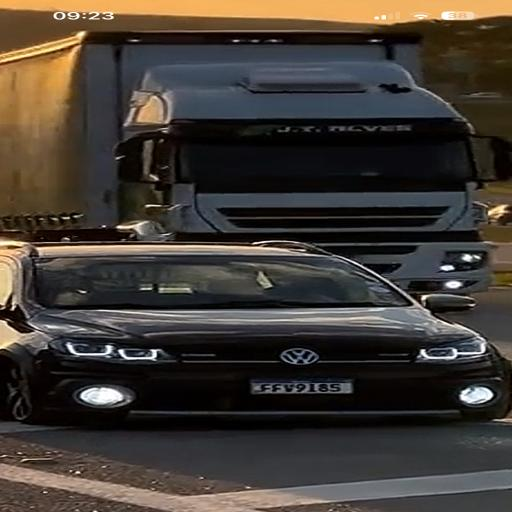detec-o-placas: (210, 374, 385, 416)
